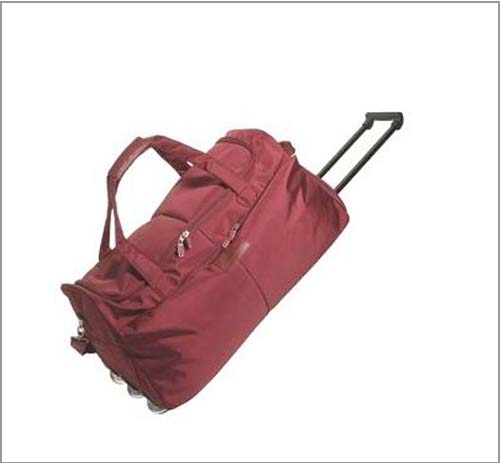luggage: (59, 109, 404, 414)
